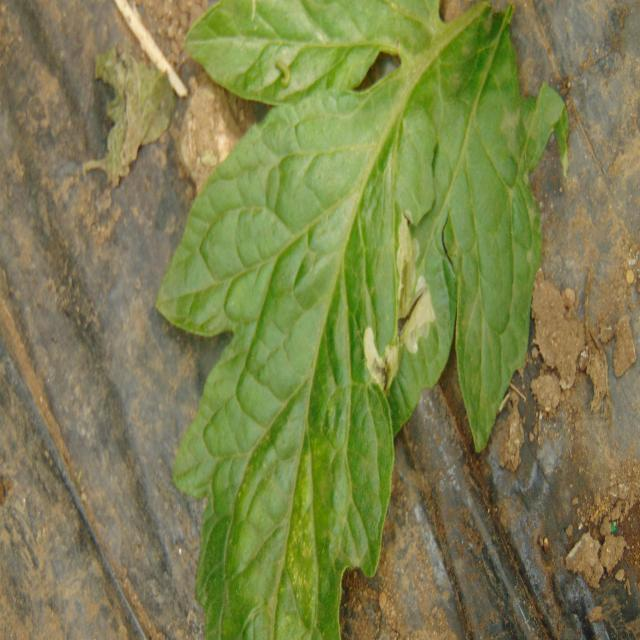Tuta absoluta: (349, 213, 463, 400)
